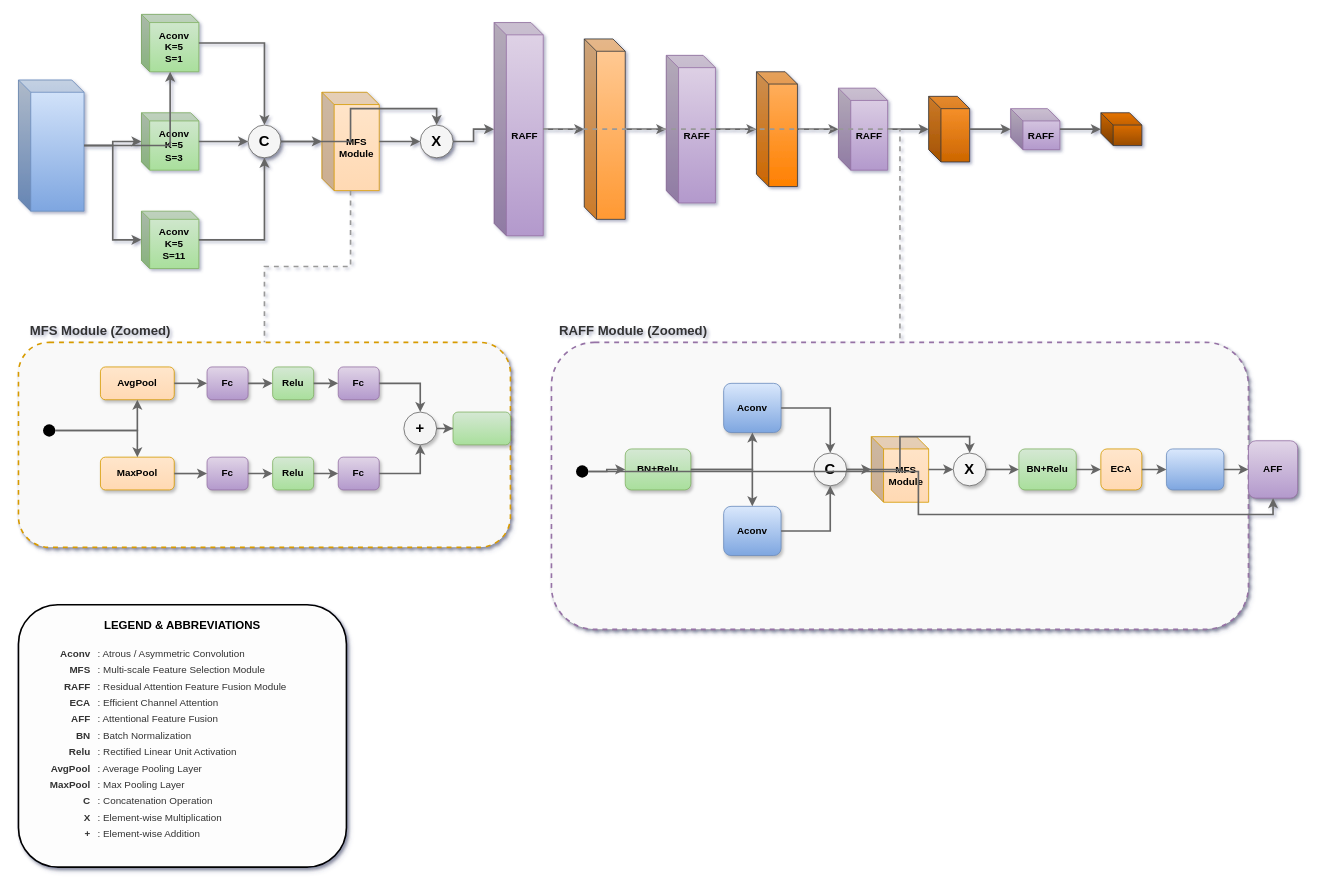
Image size: 1322x893. Some labels were removed from this diagram. Each missing label, with the centre of its shape:
Conv1D: (x=1195, y=470)
F1: L/2 x C1: (x=604, y=128)
F2: L/4 x C2: (x=776, y=129)
F3: L/8 x C3: (x=949, y=129)
F4: L/16 x C4: (x=1121, y=129)
IQ Signal 2048x2: (x=51, y=145)
Sigmoid: (x=482, y=429)
